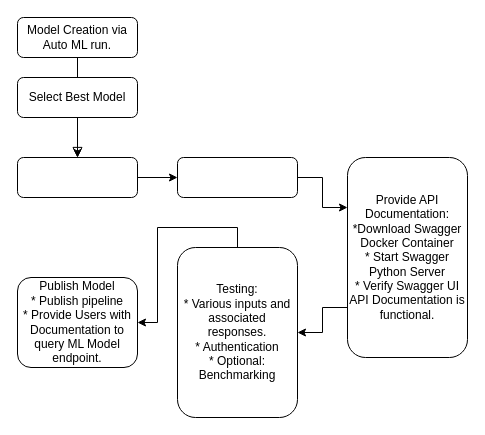
Some shapes in this 485 by 435 pixel diagram are drawn without their labels. The shapes that lost their labels are listed below. From the top down, each one's centre as x and y in pixels, then its label:
At point 77,177: "Deploy Best Model".
At point 237,177: "Enable Logging".
